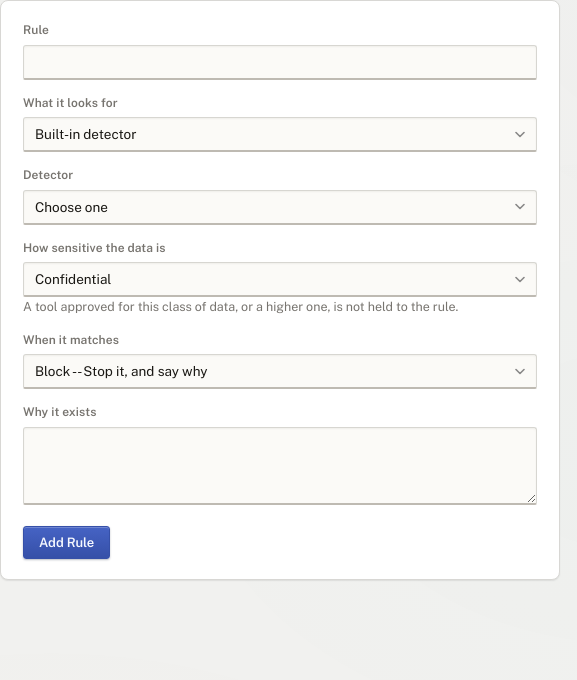
Test: DLPRuleForm › says why when the server refuses a pattern
The image size is (577, 680).
Type "Echo" into the field labelled "Rule". click: (280, 62)
box: [23,45,537,80]
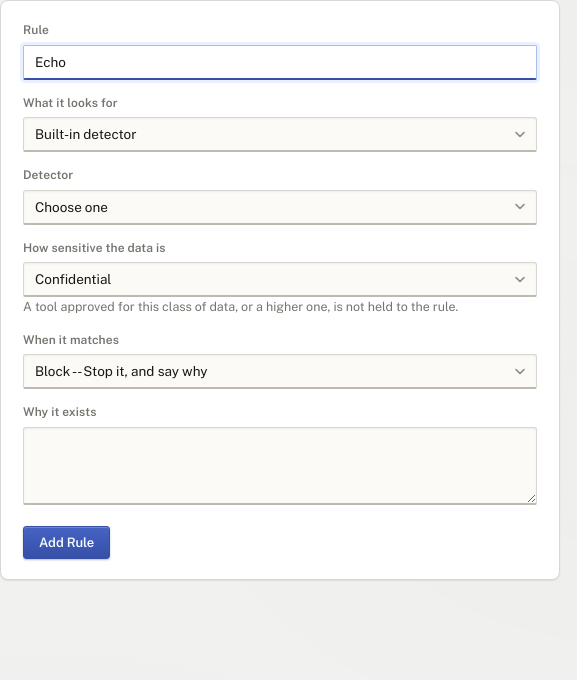
Select "Pattern" in the dropdown labelled "What it looks for". click: (280, 135)
box: [23,117,537,152]
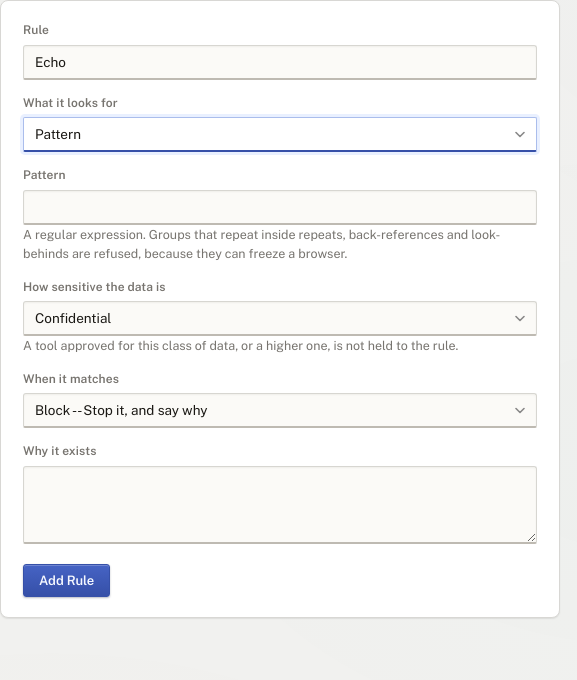
Click the field labelled "Pattern". click: (280, 207)
box: [23,190,537,225]
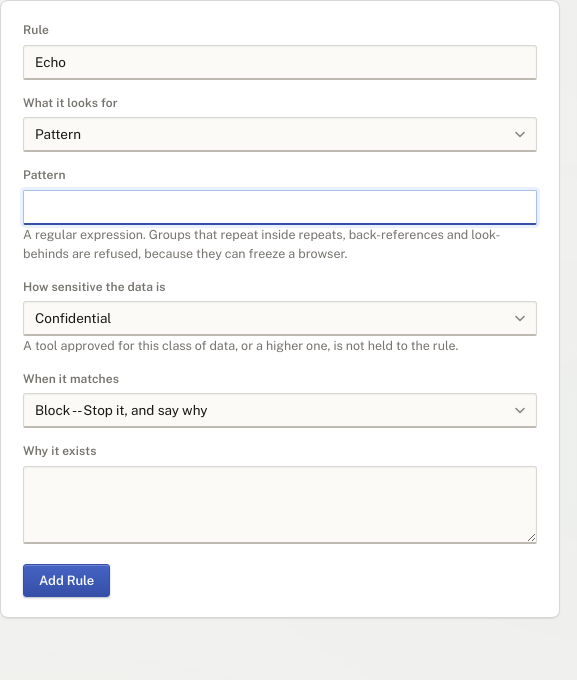
Type keys "(\\w)\\1"
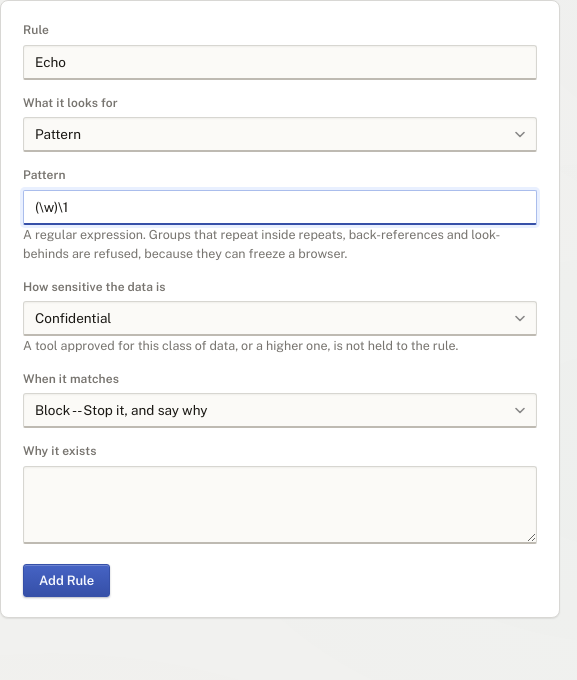
Click the button "Add Rule". click: (67, 581)
box: [23,564,110,597]
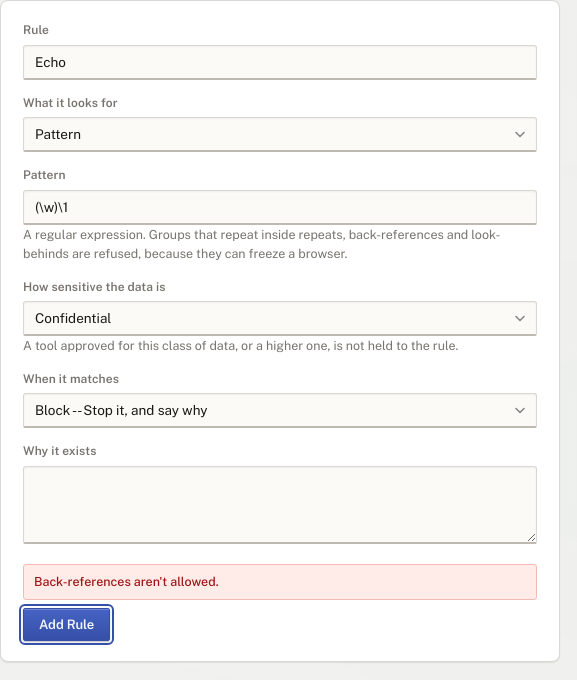
Check: the message reads "Back-references aren't allowed.", box [34,574,219,589]
